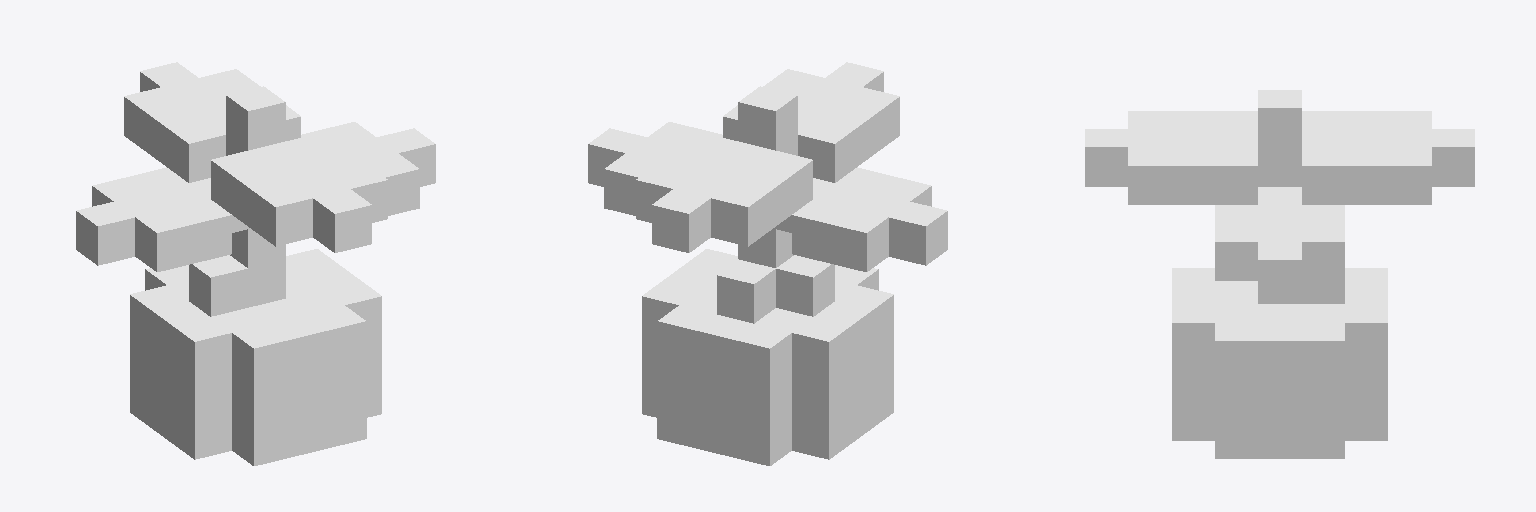
File: Plant02.obj
The picture shows the model from 3 angles: view 1: azimuth 30°, elevation 25°; view 2: azimuth 150°, elevation 25°; view 3: azimuth 270°, elevation 25°; orthographic projection.
Visible parts, largest first — view 1: Plant02; view 2: Plant02; view 3: Plant02.
Boxes of the visible parts, box(x1,y1,x2,y2) form: Plant02: box(76, 62, 435, 465); Plant02: box(588, 62, 947, 465); Plant02: box(1085, 90, 1474, 458).
Bounding box in the file's own units: 9 × 8 × 9.